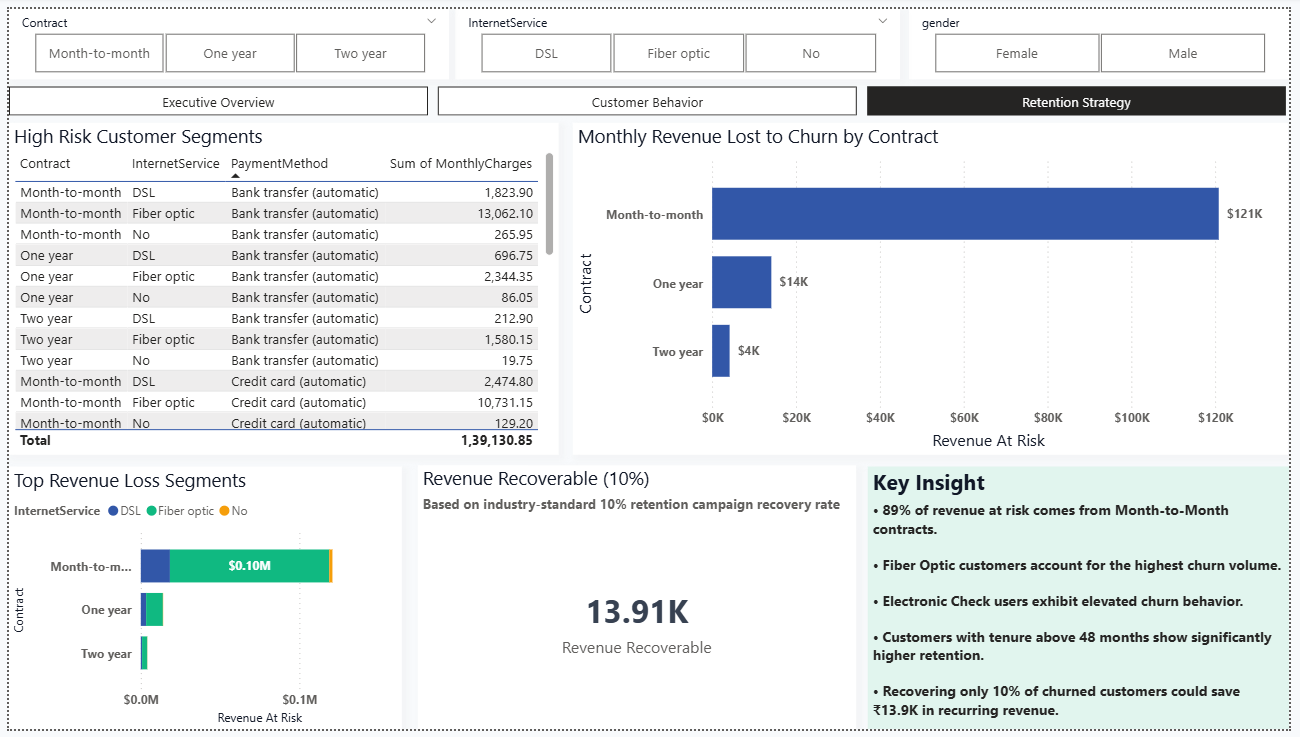

This screenshot's page, from the dashboard's own definition file:
{"tool":"powerbi","page":{"name":"Retention Strategy","canvas":[1280,720],"ordinal":2},"visuals":[{"type":"tableEx","title":"High Risk Customer Segments","fields":{"Values":["churn_raw xlsx.Contract","churn_raw xlsx.InternetService","churn_raw xlsx.PaymentMethod","Sum(churn_raw xlsx.MonthlyCharges)"]},"box":[0,113.2,549.8,332.1],"z":0},{"type":"clusteredBarChart","title":"Monthly Revenue Lost to Churn by Contract","fields":{"Category":["churn_raw xlsx.Contract"],"Y":["churn_raw xlsx.Revenue At Risk"]},"box":[563.5,113.2,715.3,332.1],"z":1000},{"type":"textbox","title":"Key Insight","box":[858.6,457.1,421.4,264.3],"z":2000},{"type":"slicer","title":"High Risk Segment Table","fields":{"Values":["churn_raw xlsx.gender"]},"box":[900,0,380,70],"z":3000},{"type":"slicer","title":"High Risk Segment Table","fields":{"Values":["churn_raw xlsx.InternetService"]},"box":[446.7,0,445,70],"z":4000},{"type":"slicer","title":"High Risk Segment Table","fields":{"Values":["churn_raw xlsx.Contract"]},"box":[0,0,440,70],"z":5000},{"type":"barChart","title":"Top Revenue Loss Segments","fields":{"Category":["churn_raw xlsx.Contract"],"Series":["churn_raw xlsx.InternetService"],"Y":["churn_raw xlsx.Revenue At Risk"]},"box":[0,457.1,392.9,264.3],"z":6000},{"type":"card","title":"Revenue Recoverable (10%)","fields":{"Values":["churn_raw xlsx.Revenue Recoverable"]},"box":[408.3,456.7,438.3,265],"z":7000},{"type":"pageNavigator","box":[0,77.3,1279.1,30],"z":8000}]}

Visuals, with their boxes in screenshot pixels (x1, y1, x2, y2), scaled from the page's 1280x720 canvas onto the 1300x737 screenshot:
"High Risk Customer Segments" tableEx: region(0, 116, 558, 456)
"Monthly Revenue Lost to Churn by Contract" clusteredBarChart: region(572, 116, 1299, 456)
"Key Insight" textbox: region(872, 468, 1299, 736)
"High Risk Segment Table" slicer: region(914, 0, 1299, 72)
"High Risk Segment Table" slicer: region(454, 0, 906, 72)
"High Risk Segment Table" slicer: region(0, 0, 447, 72)
"Top Revenue Loss Segments" barChart: region(0, 468, 399, 736)
"Revenue Recoverable (10%)" card: region(415, 467, 860, 736)
pageNavigator: region(0, 79, 1299, 110)
